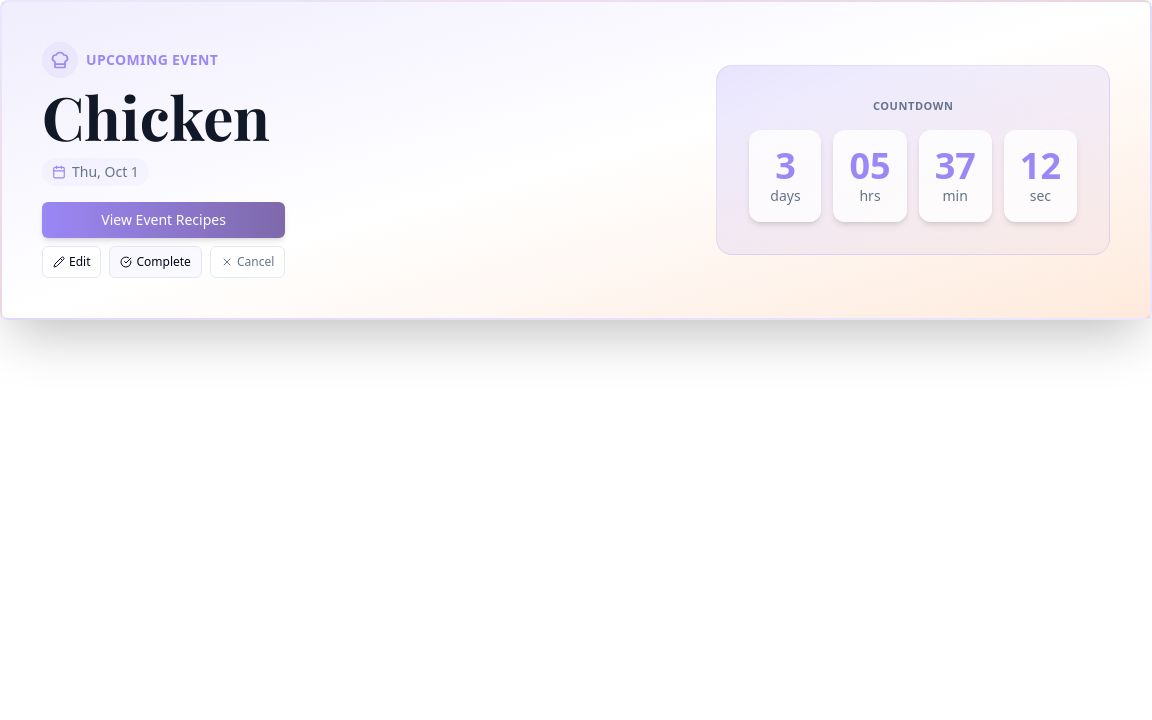
CountdownCard › defaults editEventTime to '19:00' when eventTime is falsy
Click the button "Edit". click: (72, 262)
box: [42, 246, 102, 278]
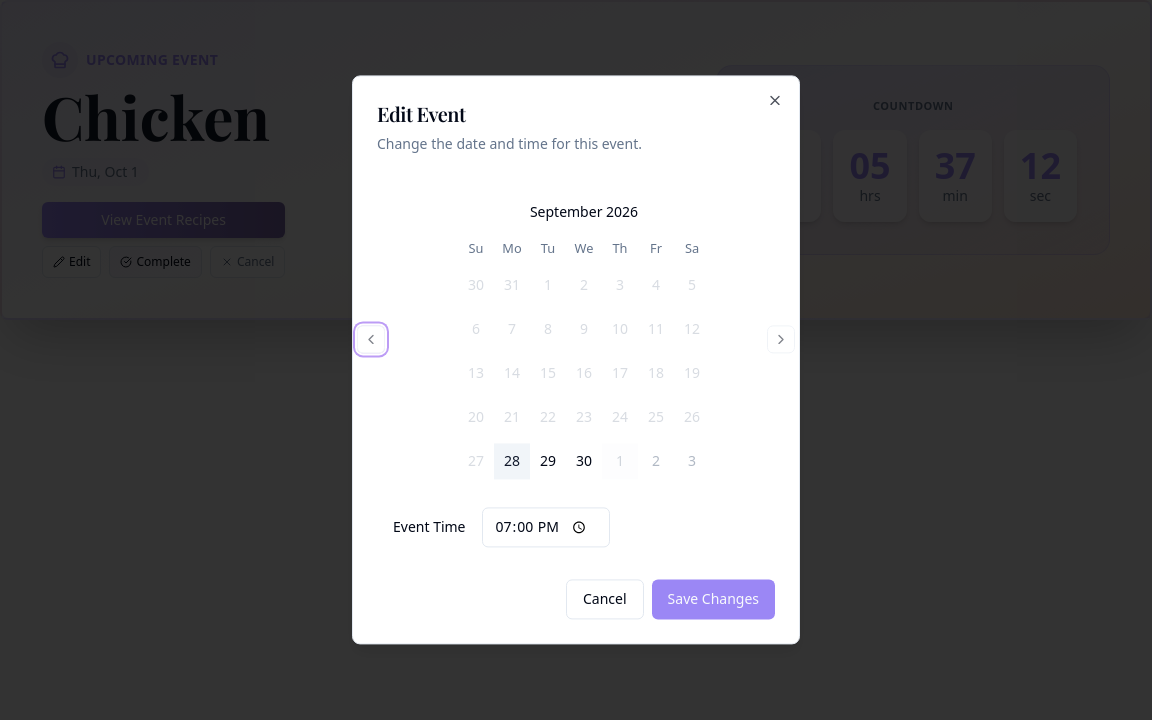
Expected: the time field labelled "Event Time" holds "19:00", [482, 508, 610, 548]
